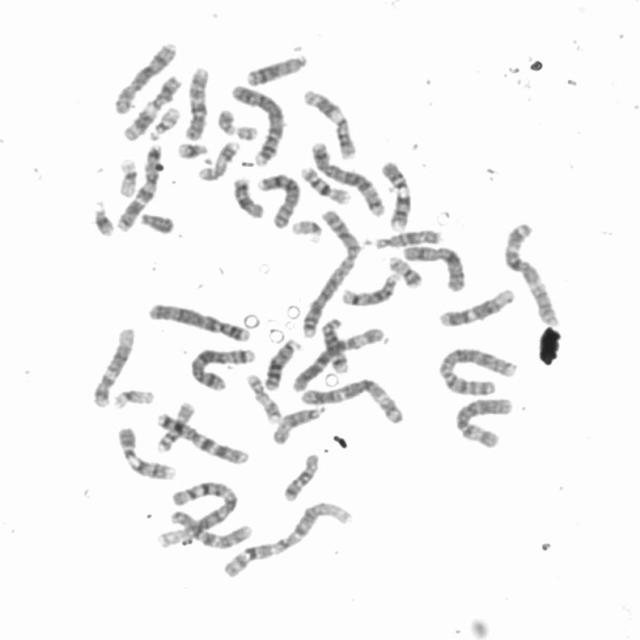A1: (223, 498, 353, 580), (158, 480, 237, 549)
A2: (300, 210, 362, 336), (438, 345, 522, 397)
A3: (502, 220, 562, 324), (300, 377, 406, 425)
B4: (228, 84, 286, 168), (148, 302, 252, 344)
B5: (312, 141, 385, 216), (190, 349, 257, 391)
C10: (171, 510, 252, 549), (184, 68, 210, 140)
C11: (302, 89, 358, 160), (123, 76, 184, 141)
C12: (91, 327, 137, 409), (438, 288, 514, 329)
C6: (292, 327, 384, 391), (455, 398, 513, 449)
C7: (154, 412, 251, 465), (115, 144, 163, 236)
C8: (115, 41, 179, 114), (258, 172, 301, 229)
C9: (118, 427, 176, 482), (378, 162, 412, 232)
D13: (246, 44, 308, 87), (264, 342, 302, 392)
D14: (340, 272, 400, 305), (320, 318, 350, 374)
D15: (273, 406, 325, 445), (375, 229, 442, 250)
E16: (155, 402, 197, 454), (301, 168, 353, 208)
E17: (244, 373, 282, 424), (198, 140, 240, 182)
E18: (282, 453, 320, 502), (232, 178, 265, 220)
F19: (114, 389, 156, 409), (118, 158, 138, 200)
F20: (217, 107, 257, 142), (388, 255, 424, 289)
G21: (92, 199, 116, 238), (176, 141, 208, 161)
G22: (148, 108, 181, 142), (290, 219, 323, 245)
X: (401, 245, 467, 293)
Y: (140, 213, 176, 237)
